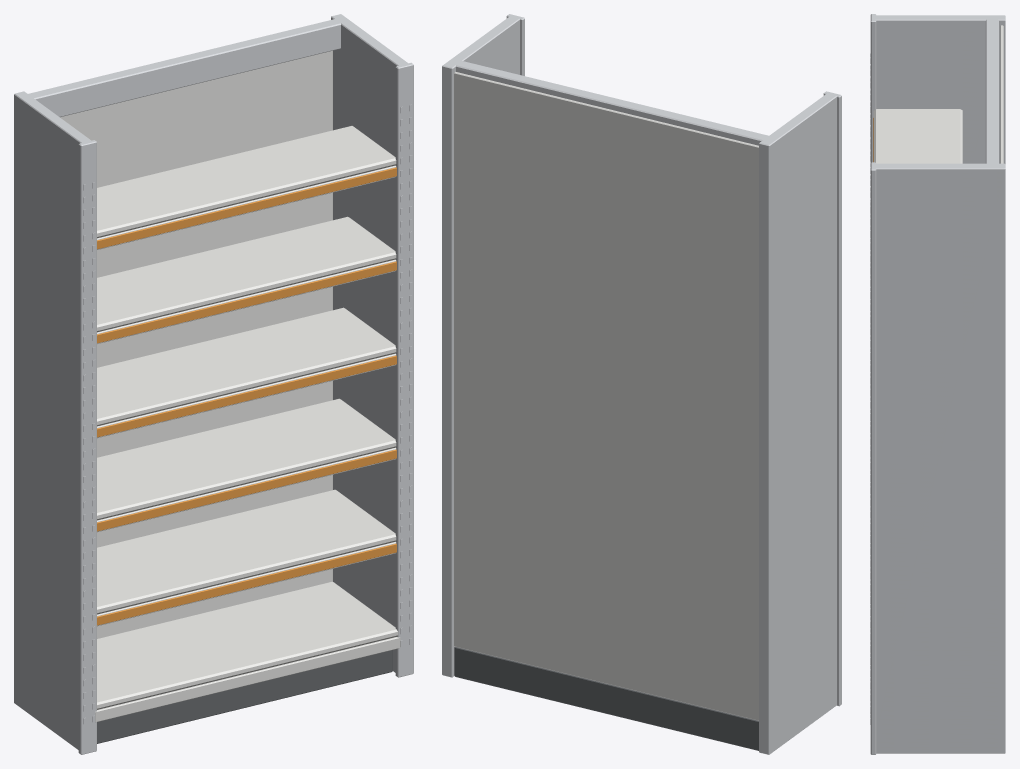
File: loja_estante.glb
The picture shows the model from 3 angles, left to right: view 1: azimuth 30°, elevation 25°; view 2: azimuth 150°, elevation 25°; view 3: azimuth 270°, elevation 25°; orthographic projection. The views are drawn at different scales.
Visible parts, largest first — view 1: shop-bay-2400; view 2: shop-bay-2400; view 3: shop-bay-2400.
Boxes of the visible parts, x1,y1,x2,y2 form: shop-bay-2400: (14, 14, 413, 754); shop-bay-2400: (442, 14, 841, 754); shop-bay-2400: (870, 14, 1005, 754).
Bounding box in the file's own units: 1.37 × 2.4 × 0.503.
